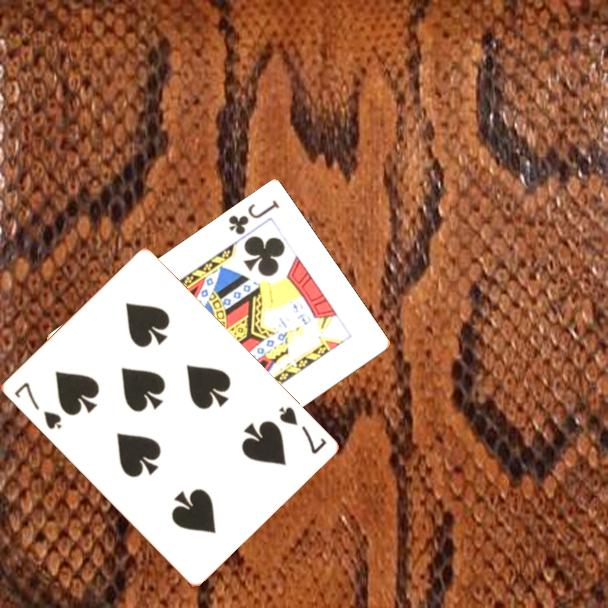c11: (225, 197, 282, 238)
s07: (275, 403, 329, 457), (10, 379, 64, 432)
